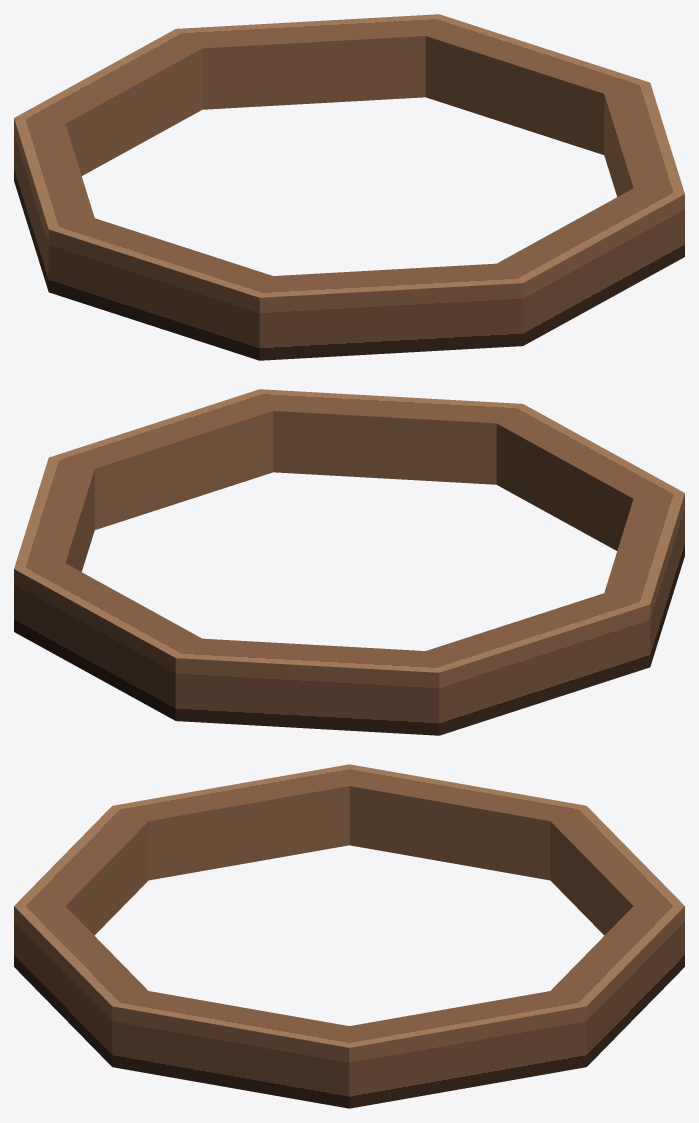
Rendered from RoundButtonBottom.glb.
3 renders of one model, top to bottom at view 1: azimuth 30°, elevation 25°; view 2: azimuth 150°, elevation 25°; view 3: azimuth 270°, elevation 25°, orthographic. The views are drawn at different scales.
Visible parts, largest first — view 1: RoundButtonBottom; view 2: RoundButtonBottom; view 3: RoundButtonBottom.
Part boxes in pixels (x1=…): RoundButtonBottom: x1=14, y1=14, x2=684, y2=360; RoundButtonBottom: x1=14, y1=389, x2=684, y2=735; RoundButtonBottom: x1=14, y1=764, x2=684, y2=1108.
Size of the model in its own units: 1.27 by 0.1269 by 1.27.
1 material, 1 textured.
